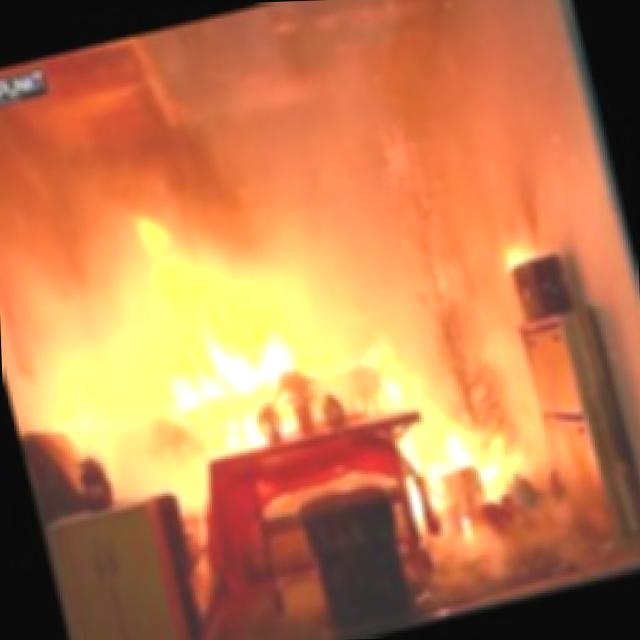fire: (0, 110, 490, 539)
